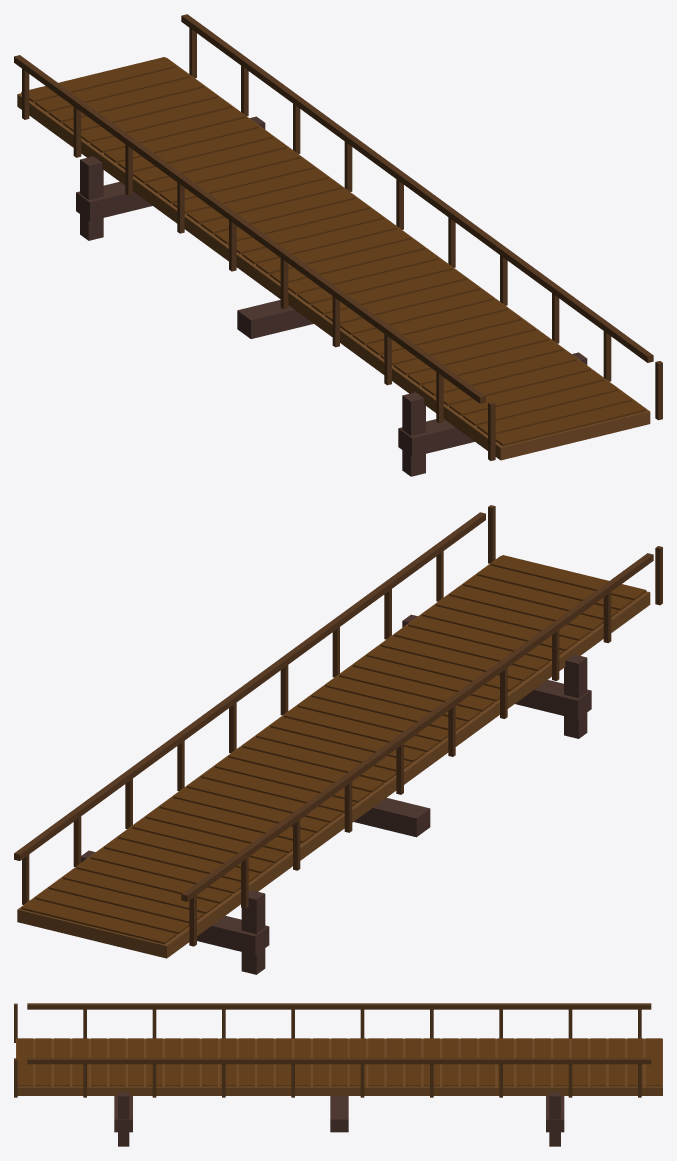
File: wooden-footbridge-authored-vertex-colour-tripo-finish.glb
3 views of the same model, one above another, from view 1: azimuth 30°, elevation 25°; view 2: azimuth 150°, elevation 25°; view 3: azimuth 270°, elevation 25° (orthographic). The views are drawn at different scales.
Visible parts, largest first — view 1: Authored_surface_389; view 2: Authored_surface_389; view 3: Authored_surface_389.
Part boxes in pixels (x1=…): Authored_surface_389: x1=14, y1=14, x2=662, y2=476; Authored_surface_389: x1=14, y1=505, x2=662, y2=974; Authored_surface_389: x1=14, y1=1003, x2=662, y2=1146.
Size of the model in its own units: 0.2137 by 0.146 by 1.
